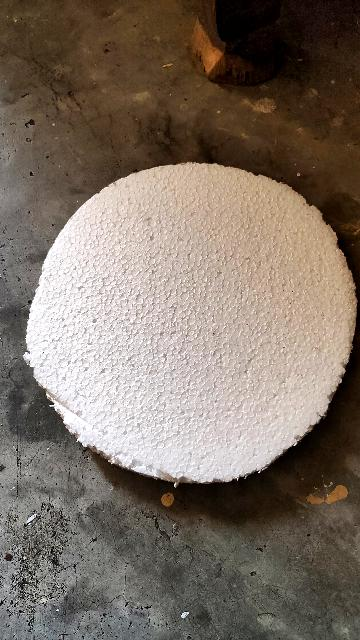cocksheet: (35, 155, 348, 470)
